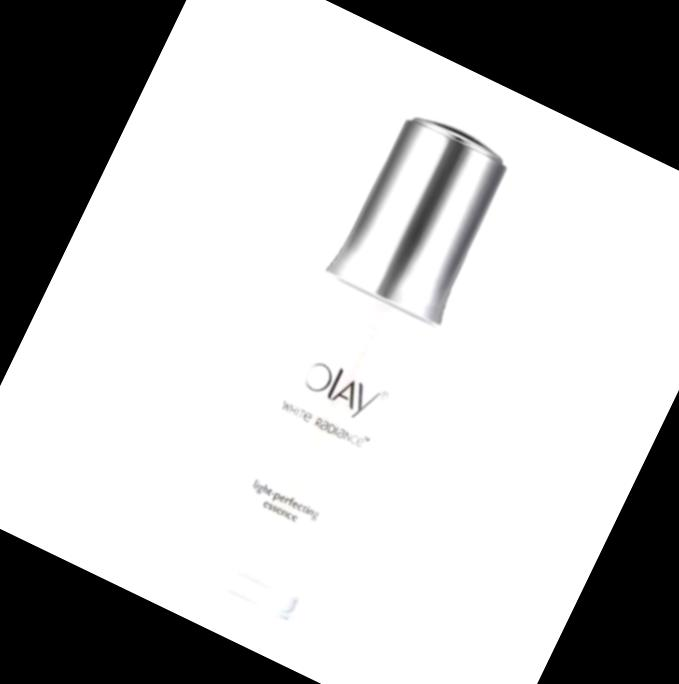cosmetic: (181, 101, 522, 619)
